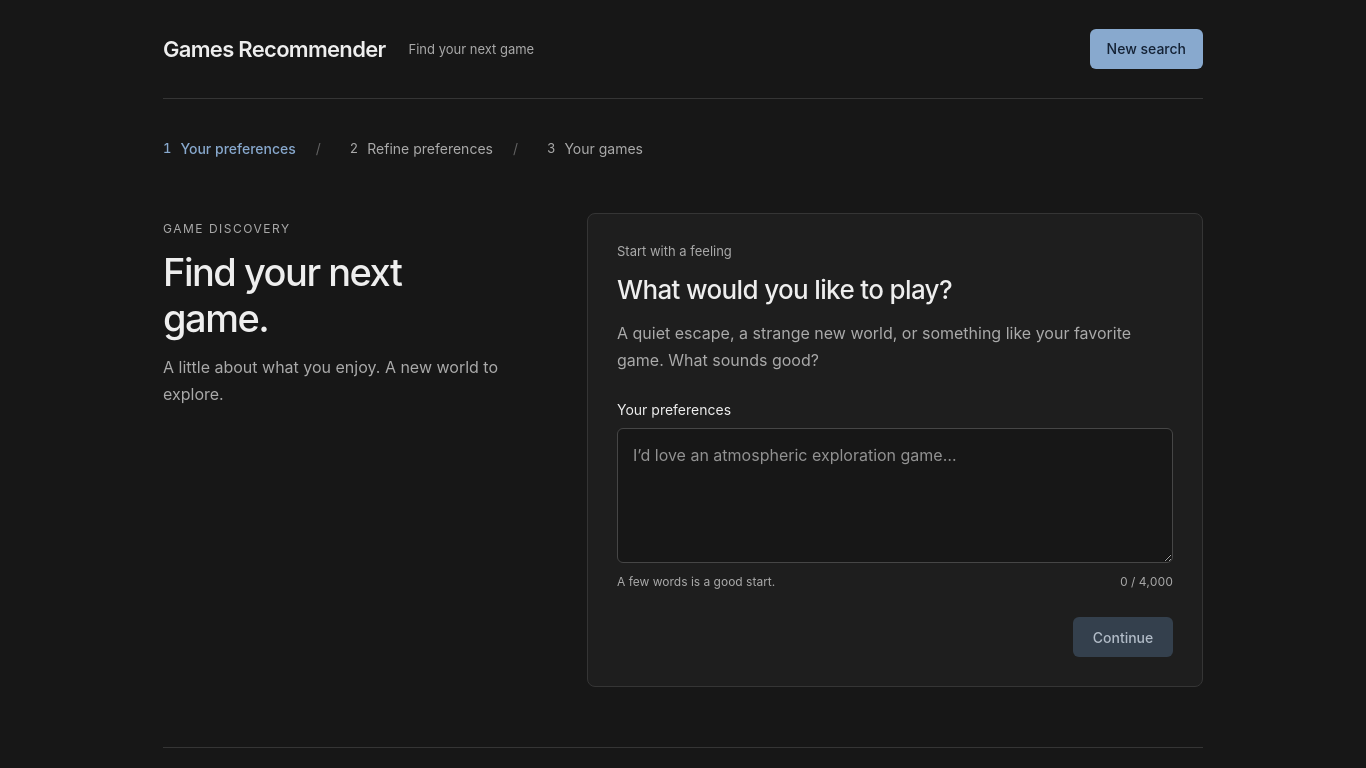
Test case: Guided Games Recommender › ignores late responses after New search and prevents duplicate sends
The image size is (1366, 768).
Type "Old search." into the text box at (895, 496), box [617, 428, 1173, 564]
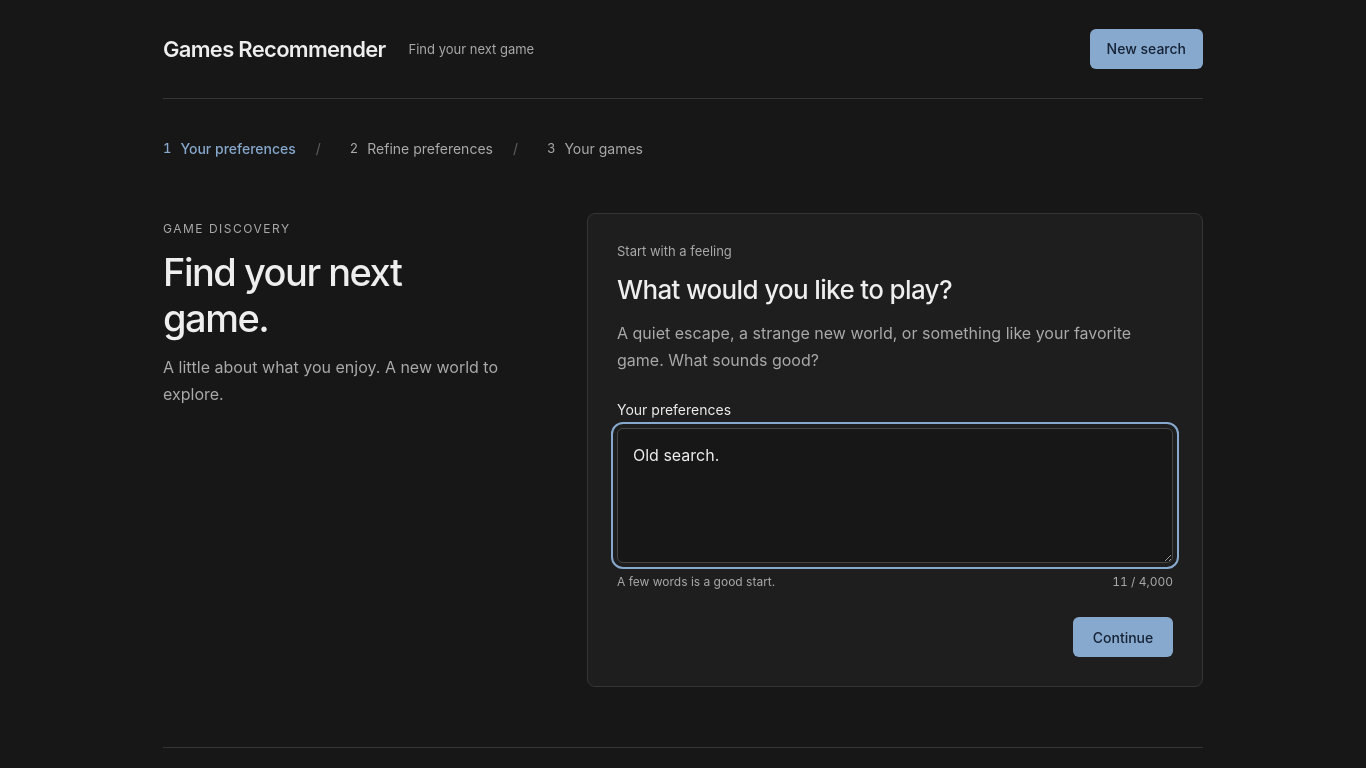
Click the button "Continue" at (1123, 638), box [1073, 618, 1173, 658]
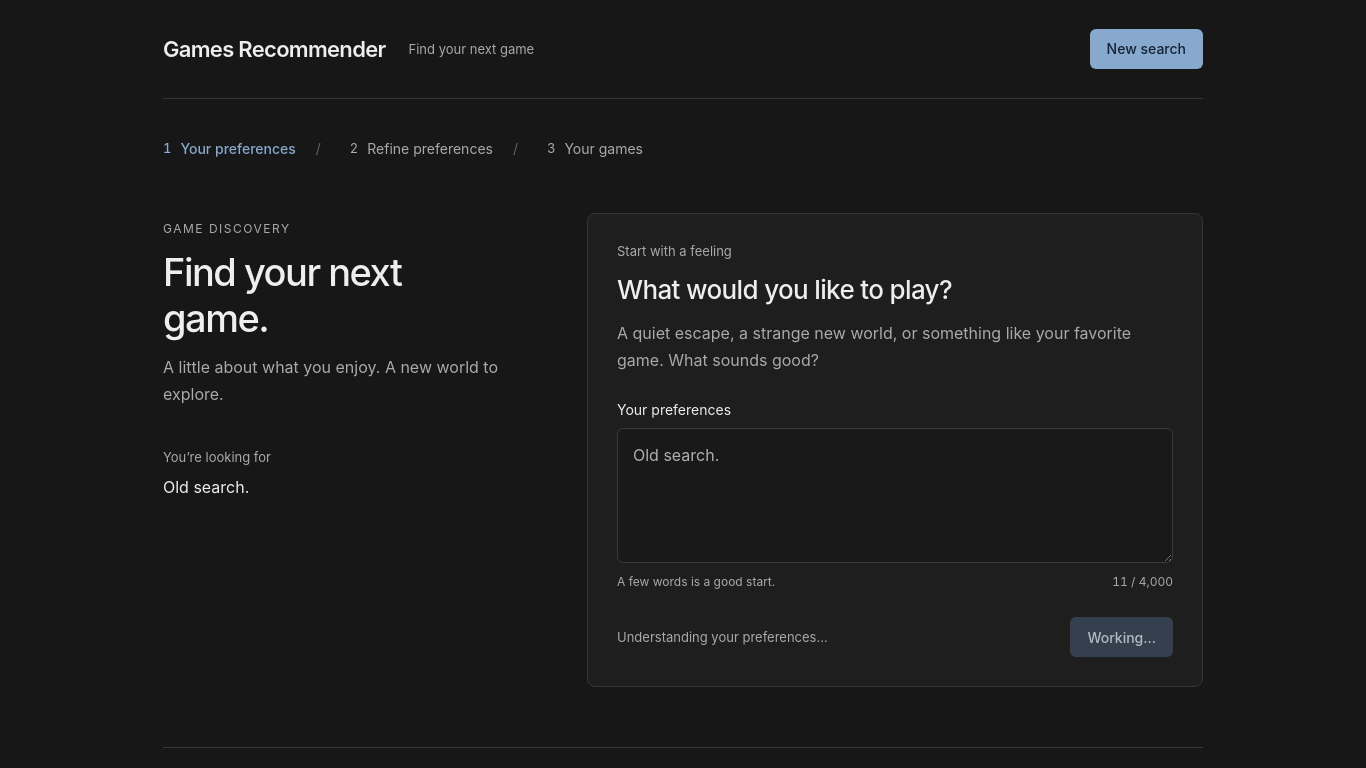
Check: the text box is disabled, box [617, 428, 1173, 564]
Submit the form, box [617, 402, 1173, 658]
Click the button "New search" at (1146, 49), box [1090, 29, 1203, 69]
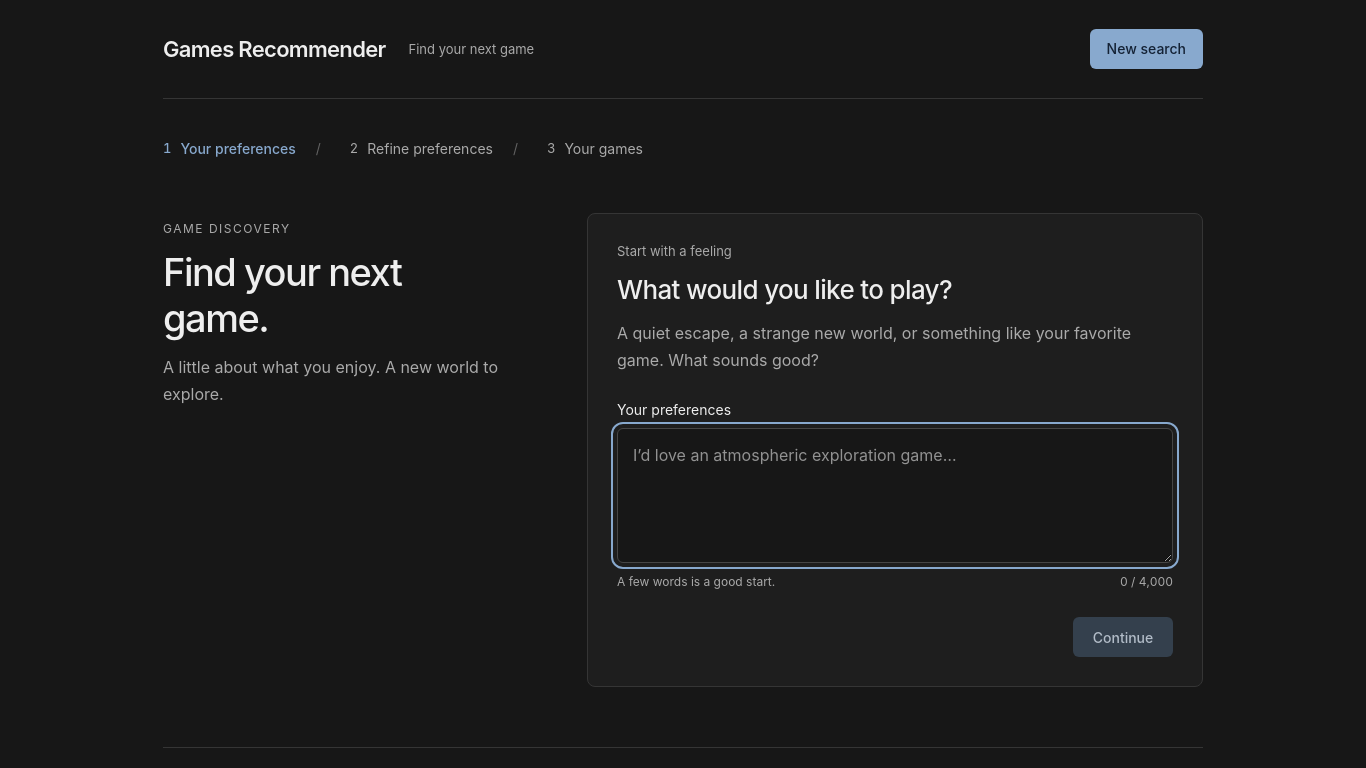
Type "New search." into the text box at (895, 496), box [617, 428, 1173, 564]
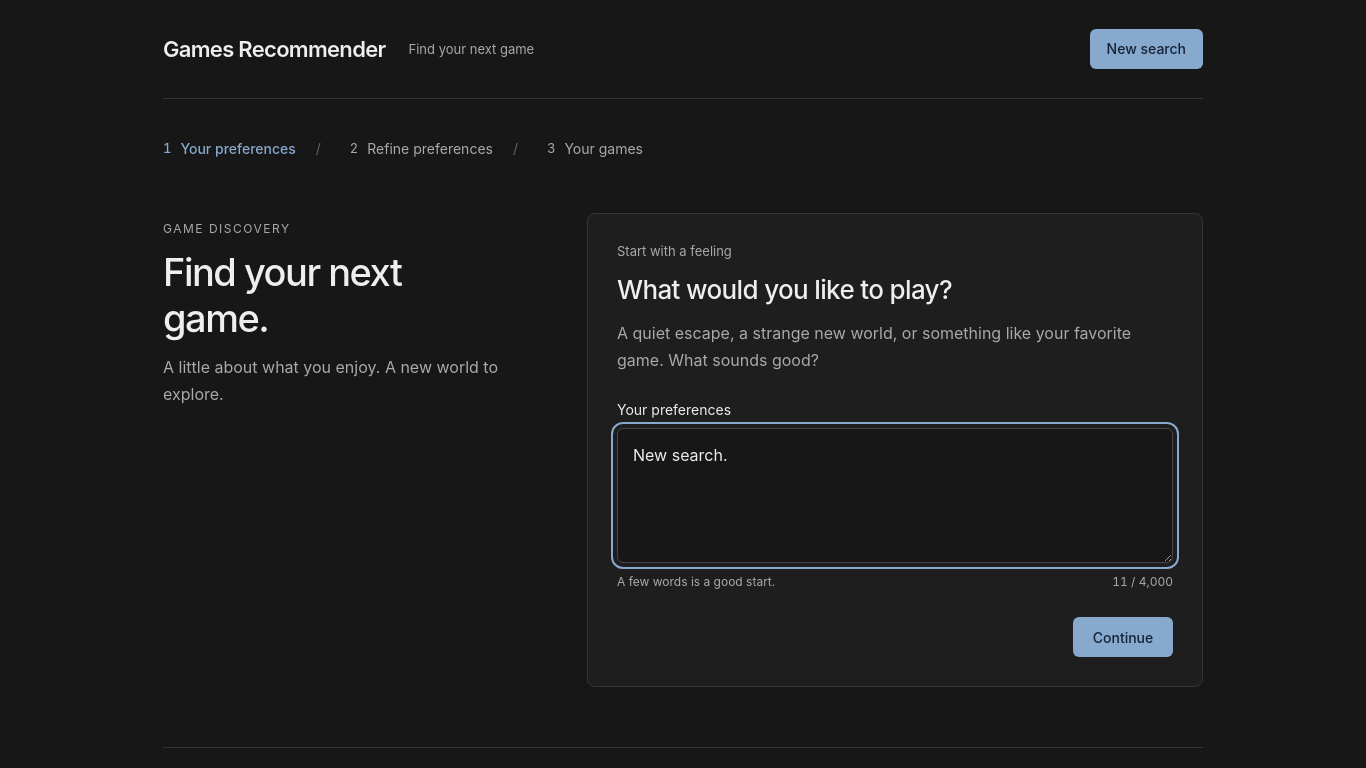
Click the button "Continue" at (1123, 638), box [1073, 618, 1173, 658]
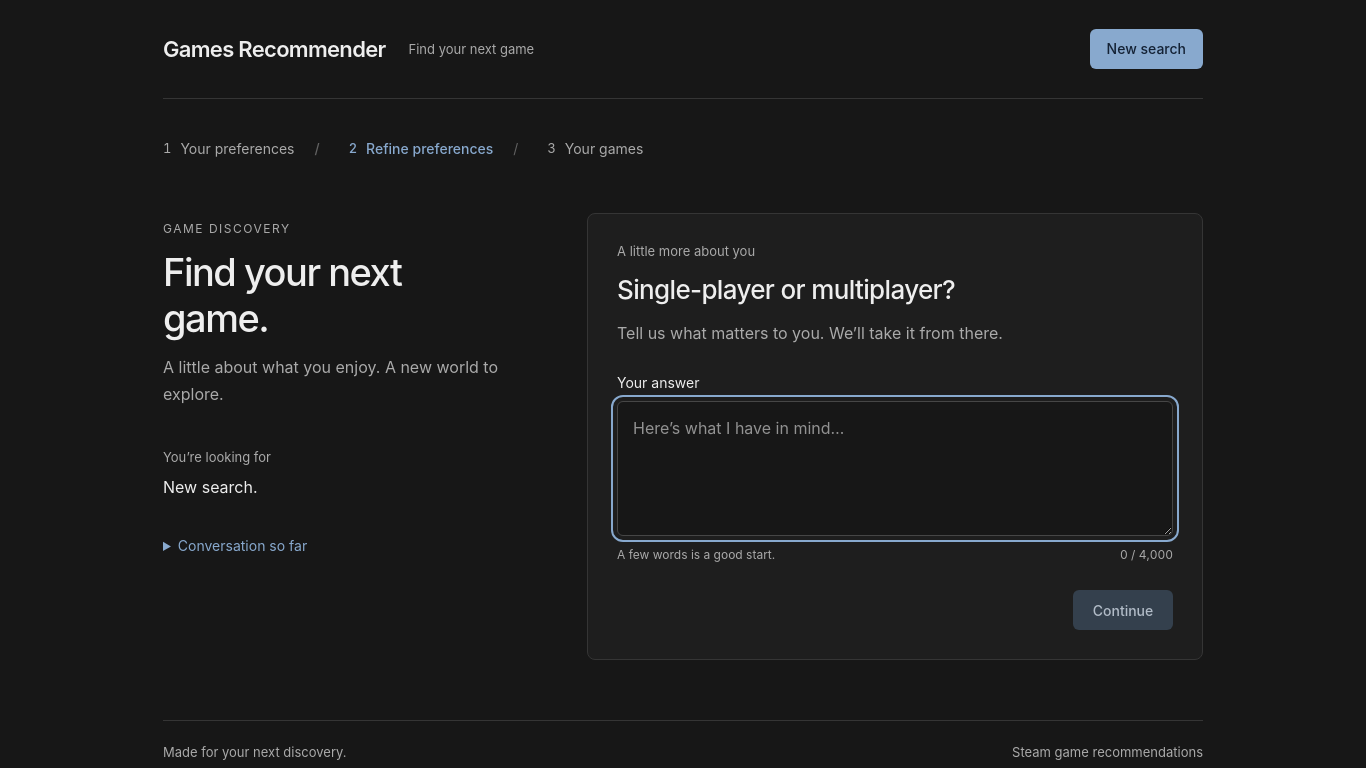
Check: the heading "Single-player or multiplayer?" is shown, box [617, 274, 955, 305]
